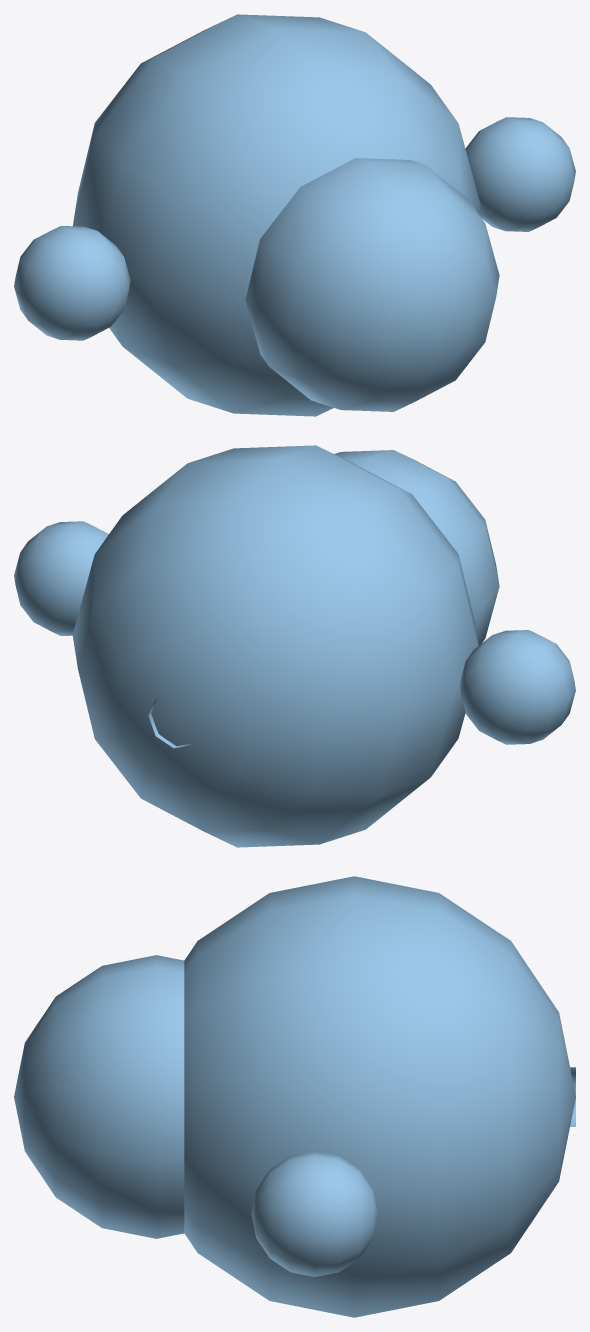
The picture shows the model from 3 angles, top to bottom: view 1: azimuth 30°, elevation 25°; view 2: azimuth 150°, elevation 25°; view 3: azimuth 270°, elevation 25°; orthographic projection. The views are drawn at different scales.
Visible parts, largest first — view 1: Wedge-tailed Eagle; view 2: Wedge-tailed Eagle; view 3: Wedge-tailed Eagle.
Part boxes in pixels (x1,y1,x2,y2): Wedge-tailed Eagle: (14, 14, 575, 416); Wedge-tailed Eagle: (14, 445, 575, 847); Wedge-tailed Eagle: (14, 876, 575, 1317).
Size of the model in its own units: 1.16 by 0.756 by 0.9585.
